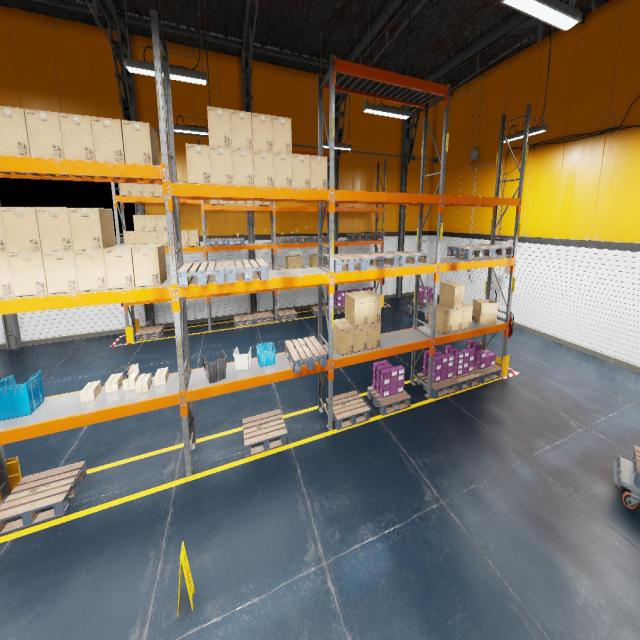box: (68, 207, 116, 250), (24, 108, 64, 159), (1, 207, 42, 252), (8, 252, 48, 296), (59, 112, 95, 160), (121, 120, 160, 164), (103, 245, 140, 289), (36, 207, 73, 251), (42, 251, 79, 294), (91, 116, 125, 162), (0, 106, 31, 156), (132, 244, 167, 287), (74, 249, 107, 291), (185, 143, 211, 184), (207, 106, 231, 148), (209, 146, 233, 185), (230, 109, 252, 149), (251, 113, 273, 151), (232, 148, 254, 186), (358, 290, 381, 324), (345, 318, 368, 352), (345, 292, 368, 326), (333, 318, 354, 355), (272, 115, 292, 153), (428, 304, 453, 334), (253, 150, 273, 187), (439, 281, 465, 309), (439, 303, 463, 332), (0, 253, 15, 298), (273, 152, 292, 187), (472, 299, 498, 324), (292, 154, 310, 188), (310, 155, 327, 189), (122, 363, 140, 391), (80, 380, 101, 402), (367, 322, 381, 349), (105, 373, 123, 393), (0, 207, 8, 252), (135, 373, 152, 393), (154, 367, 169, 386), (462, 303, 472, 329), (188, 230, 200, 246), (155, 215, 167, 231), (144, 215, 156, 231), (133, 215, 145, 231), (157, 231, 168, 247), (119, 182, 132, 195), (123, 231, 135, 245), (131, 183, 143, 196), (134, 232, 146, 244), (142, 184, 154, 196), (146, 231, 157, 244), (154, 184, 164, 197), (181, 230, 189, 246), (309, 254, 318, 267), (293, 255, 302, 268), (286, 256, 295, 268), (228, 200, 238, 204), (210, 200, 219, 204), (174, 231, 176, 247), (173, 214, 175, 230), (256, 201, 264, 205), (238, 201, 246, 205), (247, 201, 255, 205), (220, 200, 228, 204), (264, 202, 272, 205)
pallets: (0, 460, 86, 535), (242, 409, 287, 457), (326, 390, 370, 430), (285, 336, 327, 373), (367, 386, 411, 415), (178, 261, 225, 287), (416, 373, 459, 398), (226, 258, 268, 283), (323, 253, 366, 272), (352, 252, 398, 269), (387, 250, 430, 266), (447, 245, 492, 259), (453, 370, 481, 390), (472, 244, 514, 257), (474, 365, 502, 383), (135, 324, 165, 340), (632, 446, 640, 488), (253, 311, 274, 324), (234, 314, 254, 327), (410, 299, 432, 310), (278, 309, 298, 321), (311, 304, 328, 316), (207, 238, 226, 247), (346, 233, 367, 240), (290, 236, 310, 243), (276, 236, 292, 244), (308, 236, 329, 242), (226, 238, 244, 245), (362, 233, 382, 239), (334, 304, 345, 313)
